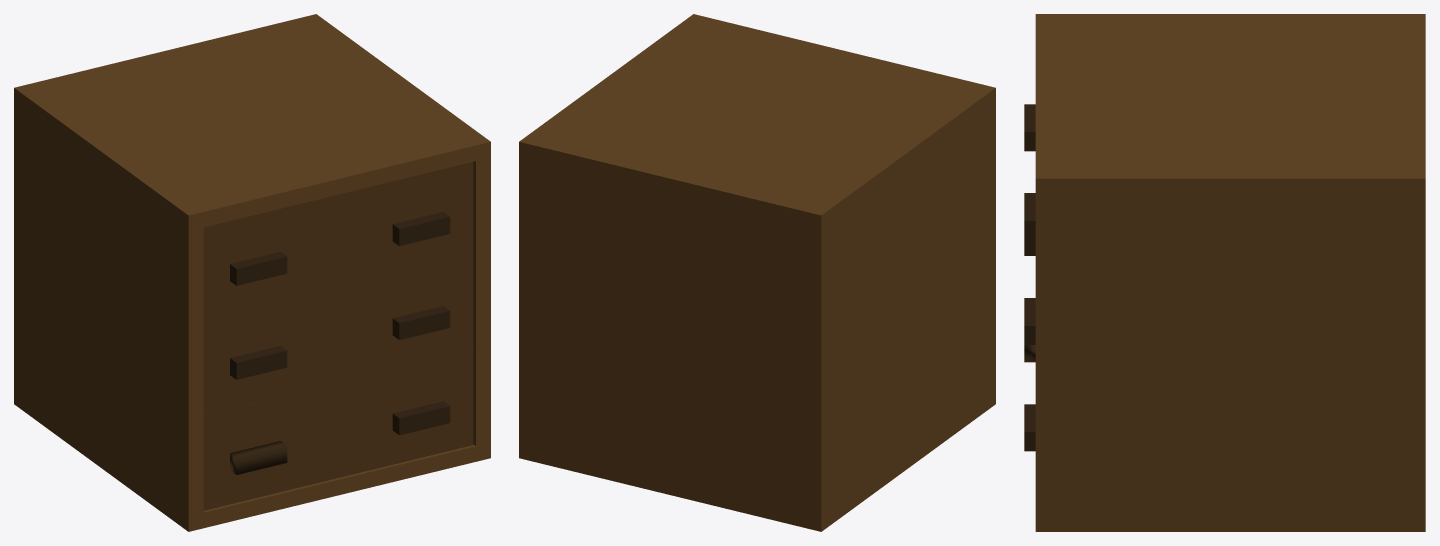
The model's file is behind boss desk kast.fbx.
The picture shows the model from 3 angles, left to right: view 1: azimuth 30°, elevation 25°; view 2: azimuth 150°, elevation 25°; view 3: azimuth 270°, elevation 25°; orthographic projection. The views are drawn at different scales.
Parts seen in each view (by area): view 1: Cube.132, Cube.133, Cube.140, Cube.139, Cube.144, Cube.142, Cube.143, Cube.138, Cube.141, Cube.135; view 2: Cube.132; view 3: Cube.132, Cube.141, Cube.144, Cube.142, Cube.143.
Boxes of the visible parts, x1,y1,x2,y2 form: Cube.132: (14, 14, 490, 531); Cube.133: (203, 350, 473, 510); Cube.140: (203, 162, 473, 321); Cube.139: (203, 256, 473, 415); Cube.144: (392, 401, 450, 435); Cube.142: (392, 212, 450, 246); Cube.143: (392, 306, 450, 340); Cube.138: (230, 345, 287, 379); Cube.141: (230, 251, 287, 285); Cube.135: (230, 441, 287, 474); Cube.132: (519, 14, 995, 531); Cube.132: (1035, 14, 1425, 531); Cube.141: (1024, 104, 1035, 151); Cube.144: (1024, 404, 1035, 451); Cube.142: (1024, 193, 1035, 239); Cube.143: (1024, 298, 1035, 344).
Bounding box in the file's own units: 200 × 200 × 206.
